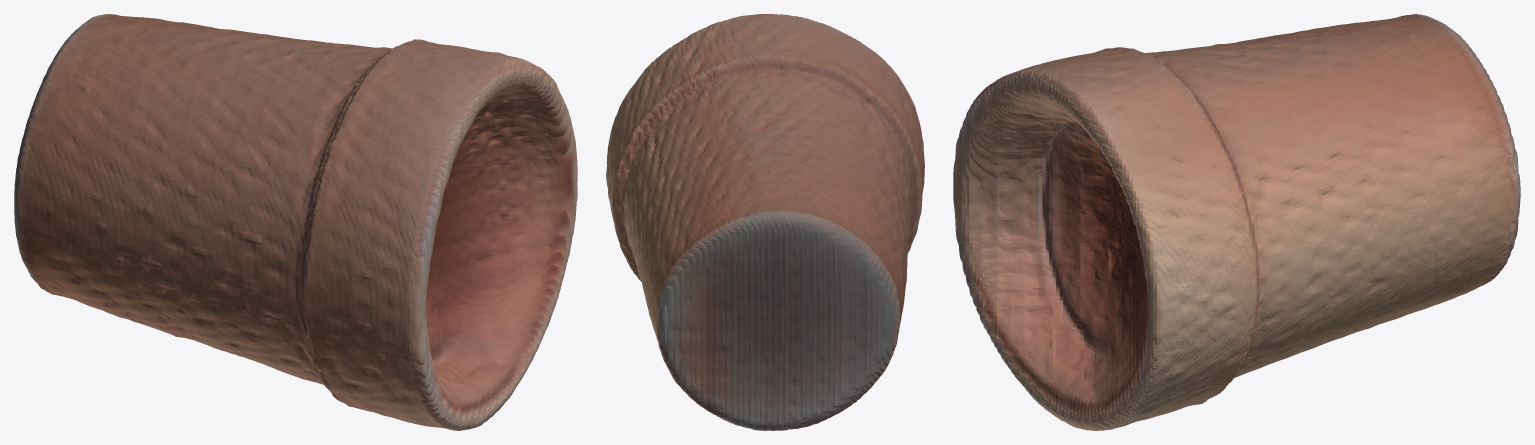
3 renders of one model, left to right at view 1: azimuth 30°, elevation 25°; view 2: azimuth 150°, elevation 25°; view 3: azimuth 270°, elevation 25°, orthographic. The views are drawn at different scales.
Visible parts, largest first — view 1: world; view 2: world; view 3: world.
Boxes of the visible parts, box(x1,y1,x2,y2) form: world: box(14, 14, 577, 430); world: box(606, 14, 924, 430); world: box(953, 14, 1520, 430).
Size of the model in its own units: 1.01 by 0.7378 by 1.11.
